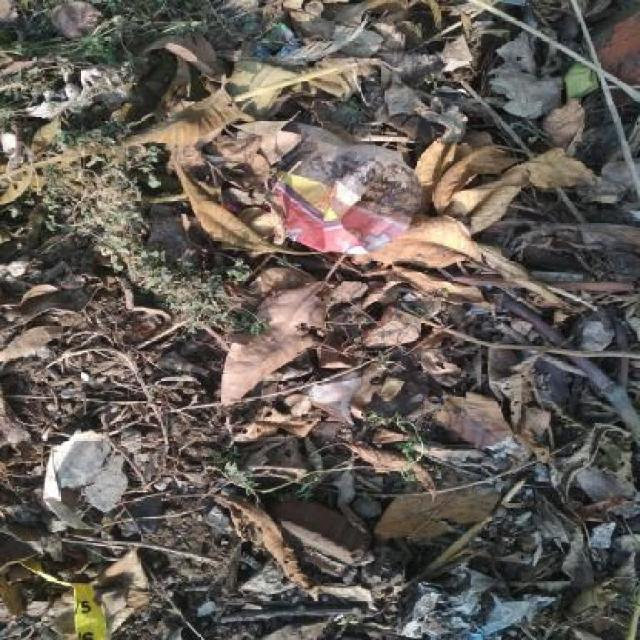garbage: (6, 32, 618, 634)
